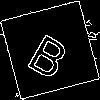B: (25, 25, 77, 82)
